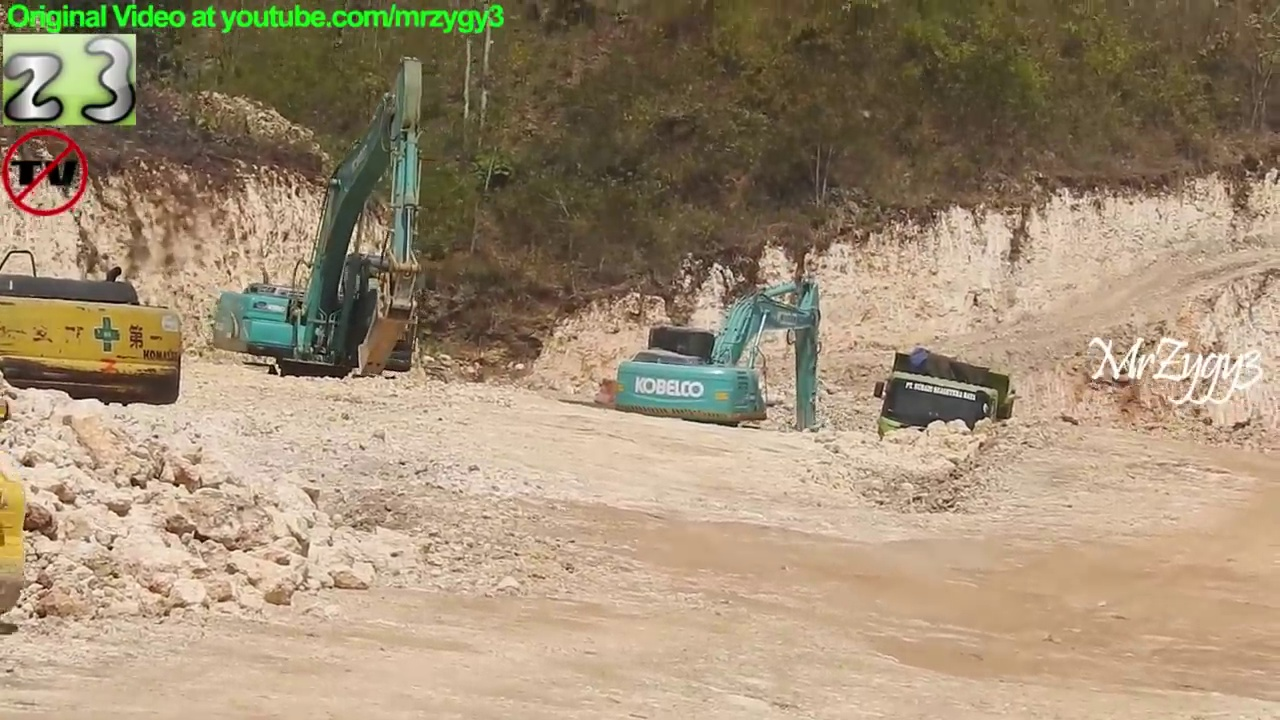excavator: (203, 51, 436, 402), (600, 272, 838, 465), (1, 240, 189, 416)
truck: (869, 341, 1022, 488)
